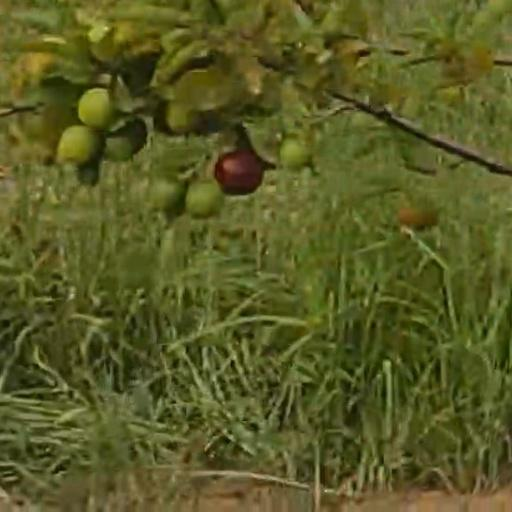acerola_verde: (59, 128, 98, 160), (81, 91, 112, 128), (159, 104, 198, 133), (189, 182, 221, 216), (153, 178, 183, 214), (279, 142, 311, 169)
acerola_vermelha: (218, 154, 263, 194)
